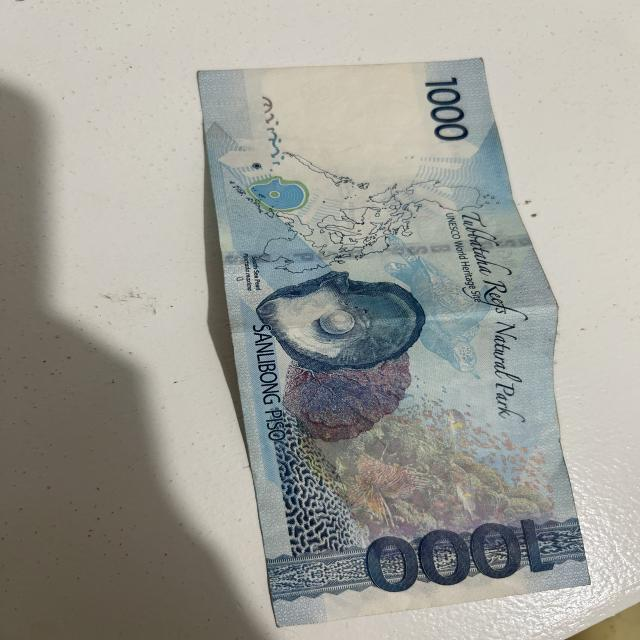1000_pearl: (246, 275, 424, 367)
1000_pearl_watermark: (243, 178, 322, 209)
